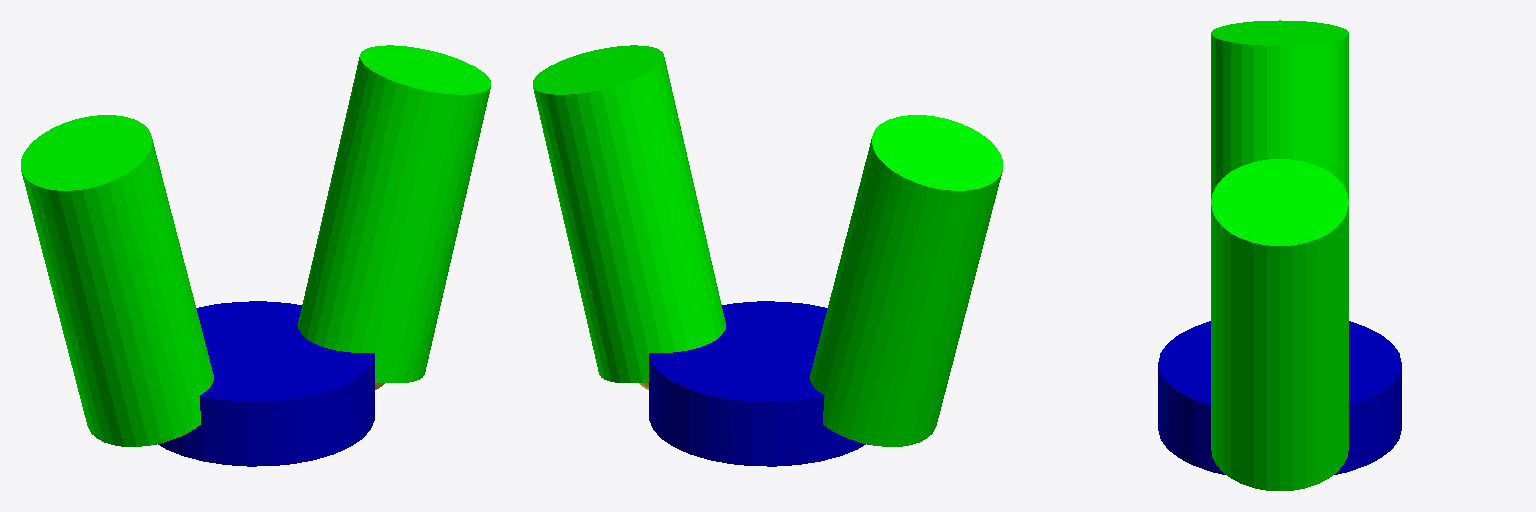
The robot description file, URDF, robot "gripper_2f_1j":
<?xml version='1.0' encoding='UTF-8'?>
<robot name="gripper_2f_1j">
  <link name="palm">
    <inertial>
      <origin xyz="0.0 0.0 0.0" rpy="0.0 -0.0 0.0"/>
      <mass value="1.0"/>
      <inertia ixx="1.0" ixy="0.0" ixz="0.0" iyy="1.0" iyz="0.0" izz="1.0"/>
    </inertial>
    <visual>
      <geometry>
        <cylinder radius="0.05" length="0.03"/>
      </geometry>
      <material name="blue"/>
      <origin xyz="0.0 0.0 0.0" rpy="0.0 -0.0 0.0"/>
    </visual>
    <collision>
      <geometry>
        <cylinder radius="0.05" length="0.03"/>
      </geometry>
      <origin xyz="0.0 0.0 0.0" rpy="0.0 0.0 0.0"/>
    </collision>
  </link>
  <link name="f11">
    <inertial>
      <origin xyz="0.0 0.0 0.0" rpy="0.0 -0.0 0.0"/>
      <mass value="1.0"/>
      <inertia ixx="1.0" ixy="0.0" ixz="0.0" iyy="1.0" iyz="0.0" izz="1.0"/>
    </inertial>
    <visual>
      <geometry>
        <cylinder radius="0.028314886575929087" length="0.1301819412735583"/>
      </geometry>
      <material name="green"/>
      <origin xyz="0.0 0.0 0.06509097063677916" rpy="0.0 -0.0 0.0"/>
    </visual>
    <collision>
      <geometry>
        <cylinder radius="0.028314886575929087" length="0.1301819412735583"/>
      </geometry>
      <origin xyz="0.0 0.0 0.05" rpy="0.0 0.0 0.0"/>
    </collision>
  </link>
  <link name="f21">
    <inertial>
      <origin xyz="0.0 0.0 0.0" rpy="0.0 -0.0 0.0"/>
      <mass value="1.0"/>
      <inertia ixx="1.0" ixy="0.0" ixz="0.0" iyy="1.0" iyz="0.0" izz="1.0"/>
    </inertial>
    <visual>
      <geometry>
        <cylinder radius="0.028314886575929087" length="0.1301819412735583"/>
      </geometry>
      <material name="green"/>
      <origin xyz="0.0 0.0 0.06509097063677916" rpy="0.0 -0.0 0.0"/>
    </visual>
    <collision>
      <geometry>
        <cylinder radius="0.028314886575929087" length="0.1301819412735583"/>
      </geometry>
      <origin xyz="0.0 0.0 0.05" rpy="0.0 0.0 0.0"/>
    </collision>
  </link>
  <link name="f11_base">
    <inertial>
      <origin xyz="0.0 0.0 0.0" rpy="0.0 -0.0 0.0"/>
      <mass value="1.0"/>
      <inertia ixx="1.0" ixy="0.0" ixz="0.0" iyy="1.0" iyz="0.0" izz="1.0"/>
    </inertial>
    <visual>
      <geometry>
        <sphere radius="0.015"/>
      </geometry>
      <origin xyz="0.0 0.0 0.0" rpy="0.0 -0.0 0.0"/>
    </visual>
  </link>
  <link name="f21_base">
    <inertial>
      <origin xyz="0.0 0.0 0.0" rpy="0.0 -0.0 0.0"/>
      <mass value="1.0"/>
      <inertia ixx="1.0" ixy="0.0" ixz="0.0" iyy="1.0" iyz="0.0" izz="1.0"/>
    </inertial>
    <visual>
      <geometry>
        <sphere radius="0.015"/>
      </geometry>
      <origin xyz="0.0 0.0 0.0" rpy="0.0 -0.0 0.0"/>
    </visual>
  </link>
  <joint name="f11_joint" type="revolute">
    <dynamics damping="100.0" friction="1.0"/>
    <limit effort="30.0" velocity="2.0" lower="-0.6" upper="0.25"/>
    <parent link="f11_base"/>
    <child link="f11"/>
    <axis xyz="0. 1. 0."/>
    <origin xyz="0.0 0.0 0.0" rpy="0.0 0.25 0.0"/>
  </joint>
  <joint name="f21_joint" type="revolute">
    <dynamics damping="100.0" friction="1.0"/>
    <limit effort="30.0" velocity="2.0" lower="-0.6" upper="0.25"/>
    <parent link="f21_base"/>
    <child link="f21"/>
    <axis xyz=" 0. -1.  0."/>
    <origin xyz="0.0 0.0 0.0" rpy="0.0 -0.25 0.0"/>
  </joint>
  <joint name="f11_base_joint" type="fixed">
    <parent link="palm"/>
    <child link="f11_base"/>
    <axis xyz="1. 0. 0."/>
    <origin xyz="0.05 0.0 0.0" rpy="0.0 0.0 0.0"/>
  </joint>
  <joint name="f21_base_joint" type="fixed">
    <parent link="palm"/>
    <child link="f21_base"/>
    <axis xyz="1. 0. 0."/>
    <origin xyz="-0.05 -0.0 0.0" rpy="0.0 0.0 0.0"/>
  </joint>
  <material name="blue">
    <color rgba="0.  0.  0.8 1. "/>
  </material>
  <material name="green">
    <color rgba="0. 1. 0. 1."/>
  </material>
</robot>

--- What the picture shows (computed from the rendered views, not written in the file) ---
The picture shows the robot from 3 angles, left to right: view 1: azimuth 30°, elevation 25°; view 2: azimuth 150°, elevation 25°; view 3: azimuth 270°, elevation 25°; orthographic projection.
Model gripper_2f_1j with 5 links and 4 joints (2 revolute, 2 fixed), rooted at palm, posed all joints at 0.
Visible links, largest first — view 1: f21, f11, palm; view 2: f21, f11, palm; view 3: f11, f21, palm.
Link boxes in pixels (x1,y1,x2,y2): f21: (21,115,213,446); f11: (298,45,490,382); palm: (158,301,374,466); f21: (810,115,1002,446); f11: (533,45,725,382); palm: (649,301,865,466); f11: (1211,159,1348,490); f21: (1211,20,1348,198); palm: (1158,321,1401,474).
Size in the robot's own frame: 0.2193 by 0.1 by 0.1481 metres.
Geometry: primitives only (box / cylinder / sphere), no mesh files.